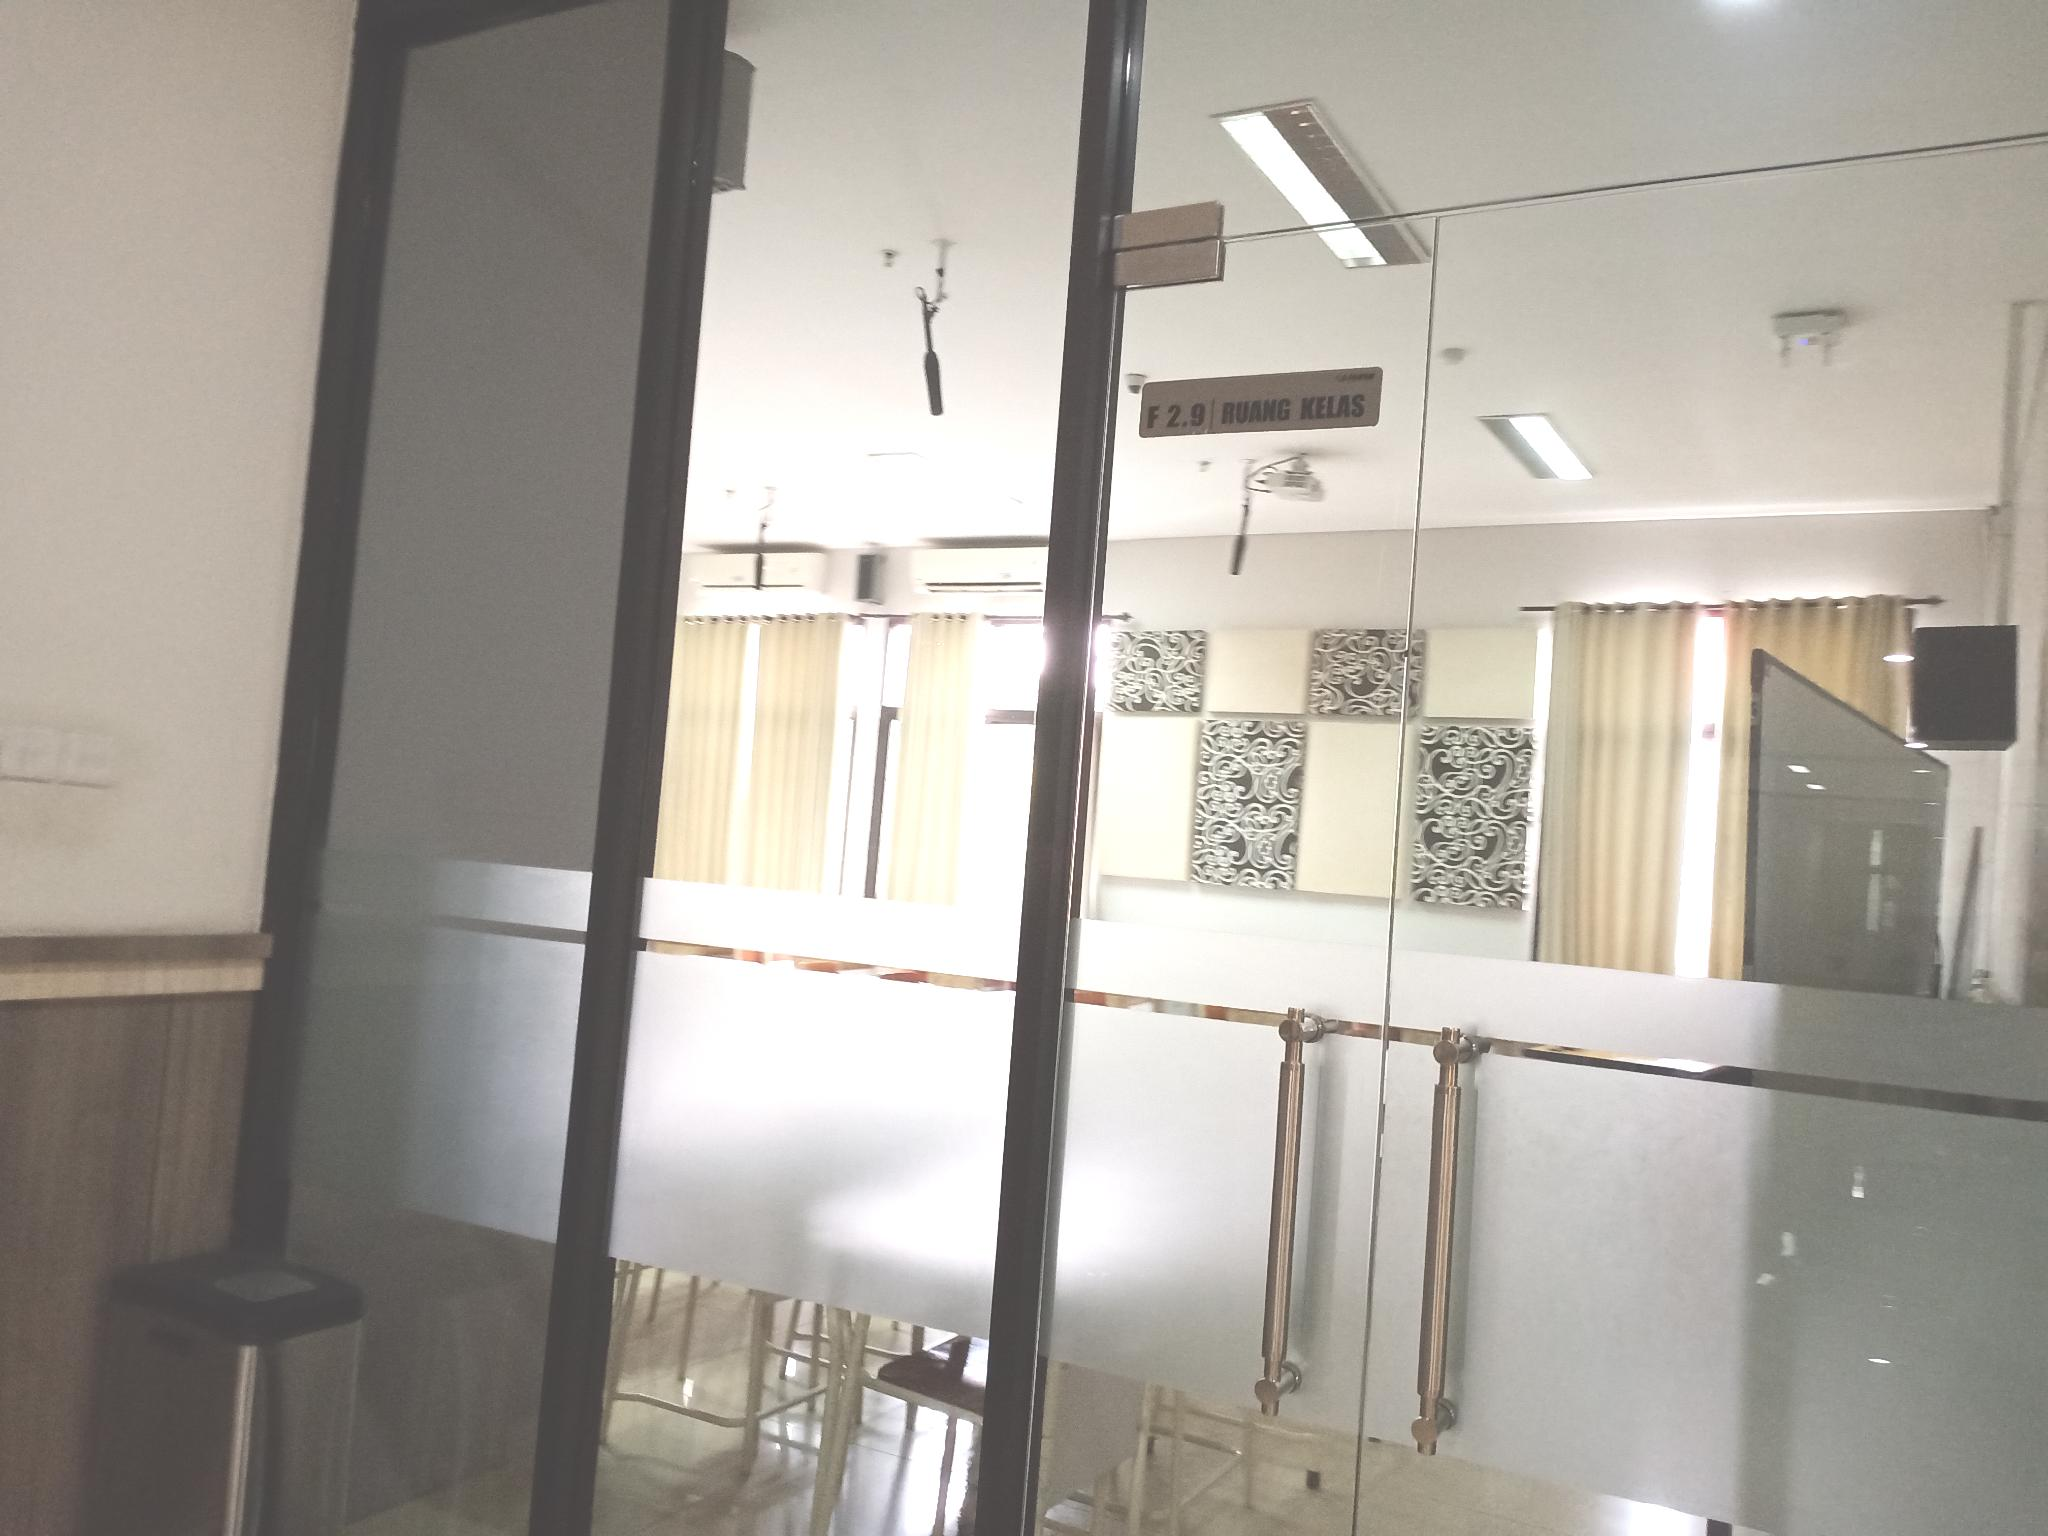plate: (1135, 363, 1384, 439)
